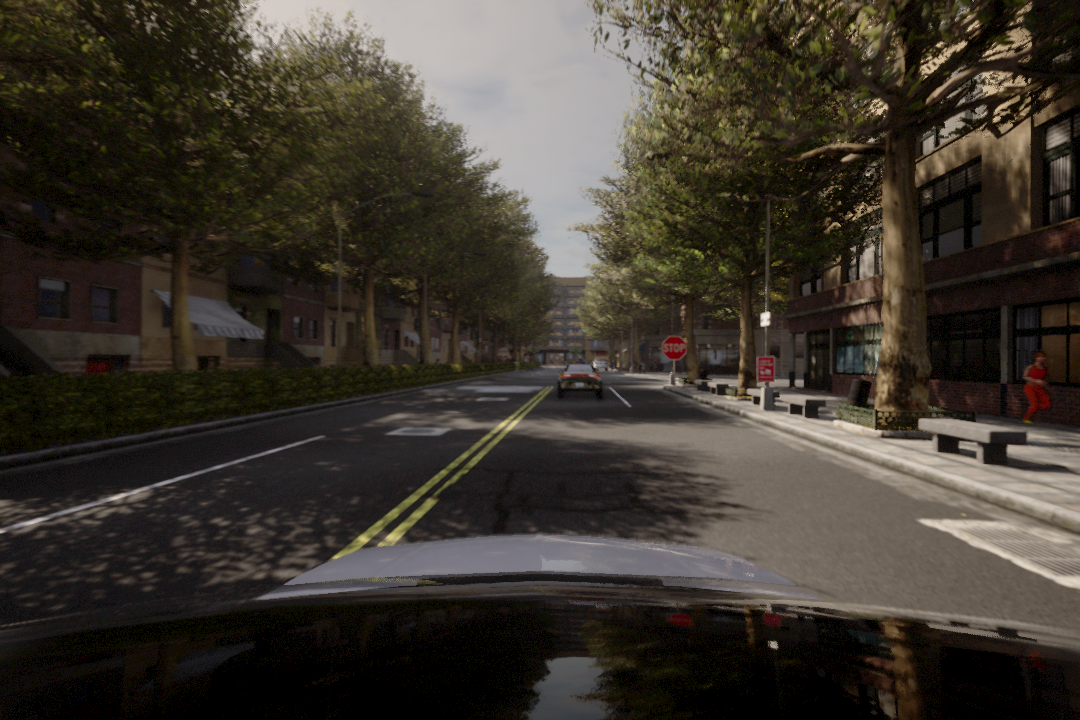TrafficSign_stop: (661, 335, 687, 360)
